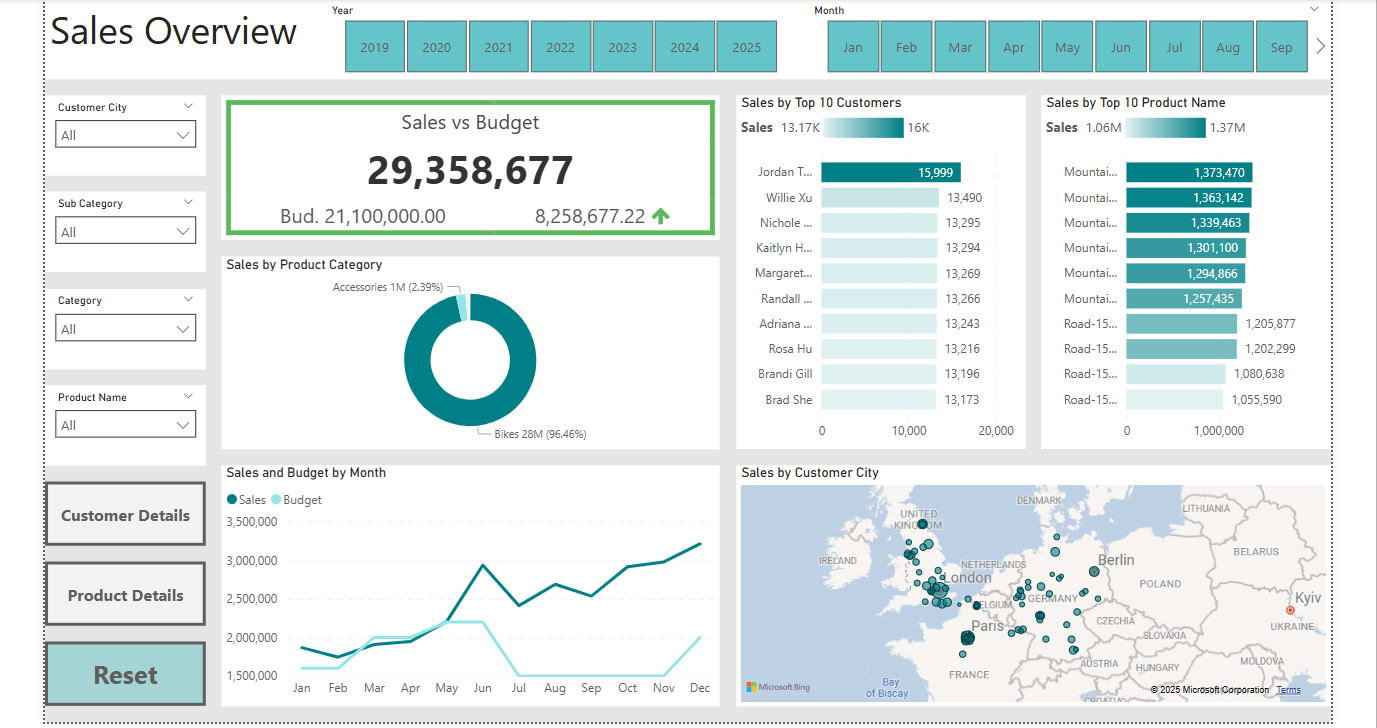

This screenshot's page, from the dashboard's own definition file:
{"tool":"powerbi","page":{"name":"Sales Overview","canvas":[1280,720],"ordinal":0},"visuals":[{"type":"textbox","box":[0,0,1280,80],"z":0},{"type":"slicer","fields":{"Values":["DIM_Customers.Customer City"]},"box":[0,96,160,80],"z":1000},{"type":"slicer","fields":{"Values":["DIM_Products.Sub Category"]},"box":[0,192,160,80],"z":2000},{"type":"slicer","fields":{"Values":["DIM_Products.Product Name"]},"box":[0,384,160,80],"z":3000},{"type":"slicer","fields":{"Values":["DIM_Products.Product Category"]},"box":[0,288,160,80],"z":4000},{"type":"slicer","fields":{"Values":["Dim_Calender.Year"]},"box":[272,0,480,80],"z":5000},{"type":"slicer","fields":{"Values":["Dim_Calender.MonthShort"]},"box":[752,0,528,80],"z":6000},{"type":"BBED0A4D4D8D44CE93CF2DAFADEE466C","fields":{"target1":["Measures (2).Budget Amount"],"actual":["Measures (2).Sales"],"target2":["Measures (2).Sales-Budget"]},"box":[176,96,496,144],"z":7000},{"type":"donutChart","fields":{"Category":["DIM_Products.Product Category"],"Y":["Measures (2).Sales"]},"box":[176,256,496,192],"z":8000},{"type":"lineChart","fields":{"Category":["Dim_Calender.MonthShort"],"Y":["Measures (2).Sales","Measures (2).Budget Amount"]},"box":[176,464,496,240],"z":9000},{"type":"barChart","title":"Sales by Top 10 Customers","fields":{"Y":["Measures (2).Sales"],"Category":["DIM_Customers.Full Name"]},"box":[688,96,288,352],"z":10000},{"type":"barChart","title":"Sales by Top 10 Product Name","fields":{"Y":["Measures (2).Sales"],"Category":["DIM_Products.Product Name"]},"box":[992,96,288,352],"z":11000},{"type":"map","fields":{"Category":["DIM_Customers.Customer City"],"Size":["Measures (2).Sales"]},"box":[688,464,592,240],"z":12000},{"type":"actionButton","box":[0,640,160,64],"z":13000},{"type":"actionButton","box":[0,480,160,64],"z":13001},{"type":"actionButton","box":[0,560,160,64],"z":13003}]}

Visuals, with their boxes on the page's 1280x720 design canvas (x1, y1, x2, y2). These are canvas units, not pixel positions in the 1377x728 screenshot, which may show the page scaled, cropped or inside an application window:
textbox: 0,0,1280,80
slicer - DIM_Customers.Customer City: 0,96,160,176
slicer - DIM_Products.Sub Category: 0,192,160,272
slicer - DIM_Products.Product Name: 0,384,160,464
slicer - DIM_Products.Product Category: 0,288,160,368
slicer - Dim_Calender.Year: 272,0,752,80
slicer - Dim_Calender.MonthShort: 752,0,1280,80
BBED0A4D4D8D44CE93CF2DAFADEE466C - Measures (2).Budget Amount x Measures (2).Sales: 176,96,672,240
donutChart - DIM_Products.Product Category x Measures (2).Sales: 176,256,672,448
lineChart - Dim_Calender.MonthShort x Measures (2).Sales: 176,464,672,704
"Sales by Top 10 Customers" barChart: 688,96,976,448
"Sales by Top 10 Product Name" barChart: 992,96,1280,448
map - DIM_Customers.Customer City x Measures (2).Sales: 688,464,1280,704
actionButton: 0,640,160,704
actionButton: 0,480,160,544
actionButton: 0,560,160,624
